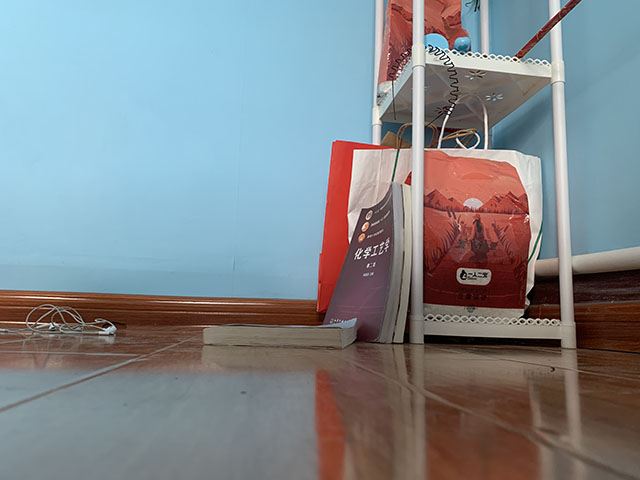book: (323, 180, 412, 345), (201, 317, 360, 348)
wire: (1, 303, 119, 339)
